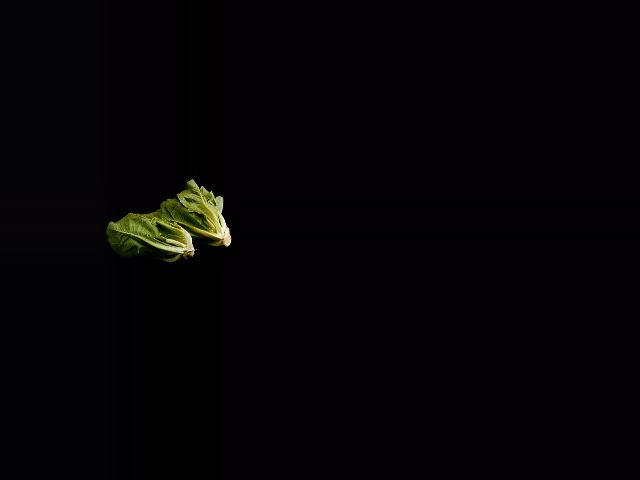lettuce: (144, 180, 231, 256)
